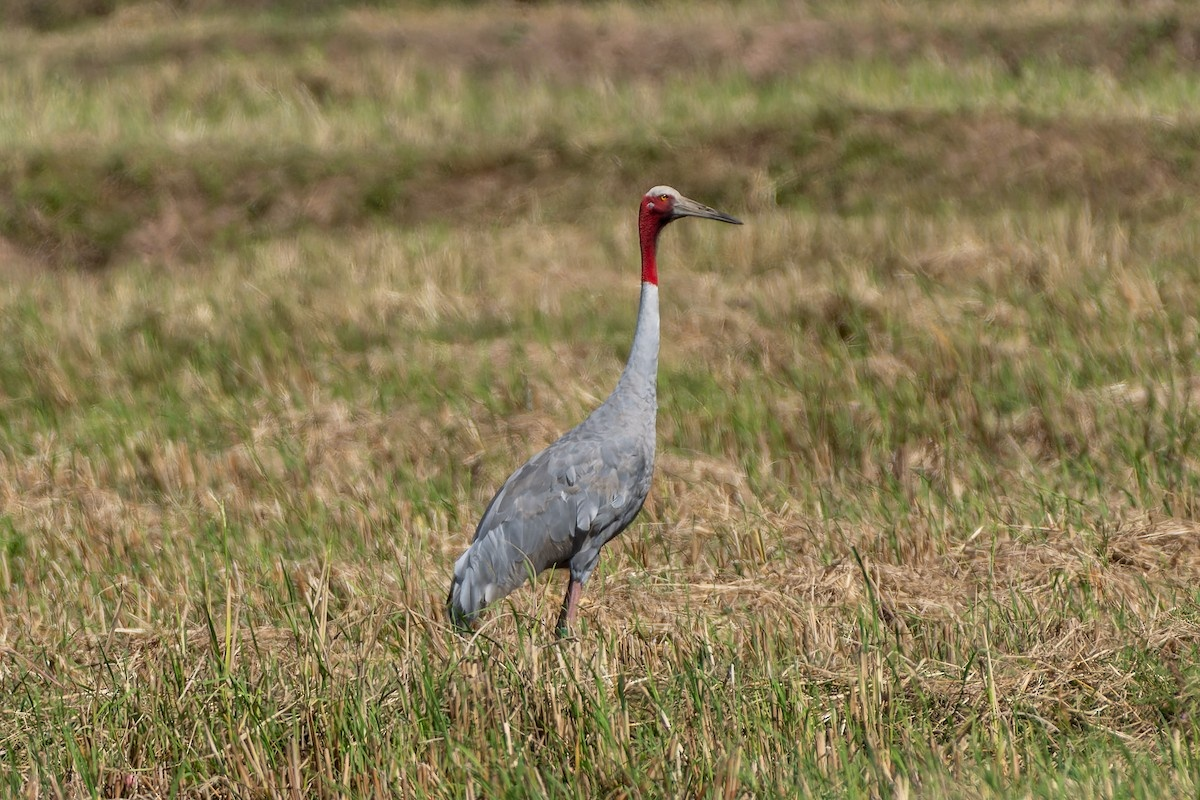crane: (436, 176, 752, 658)
